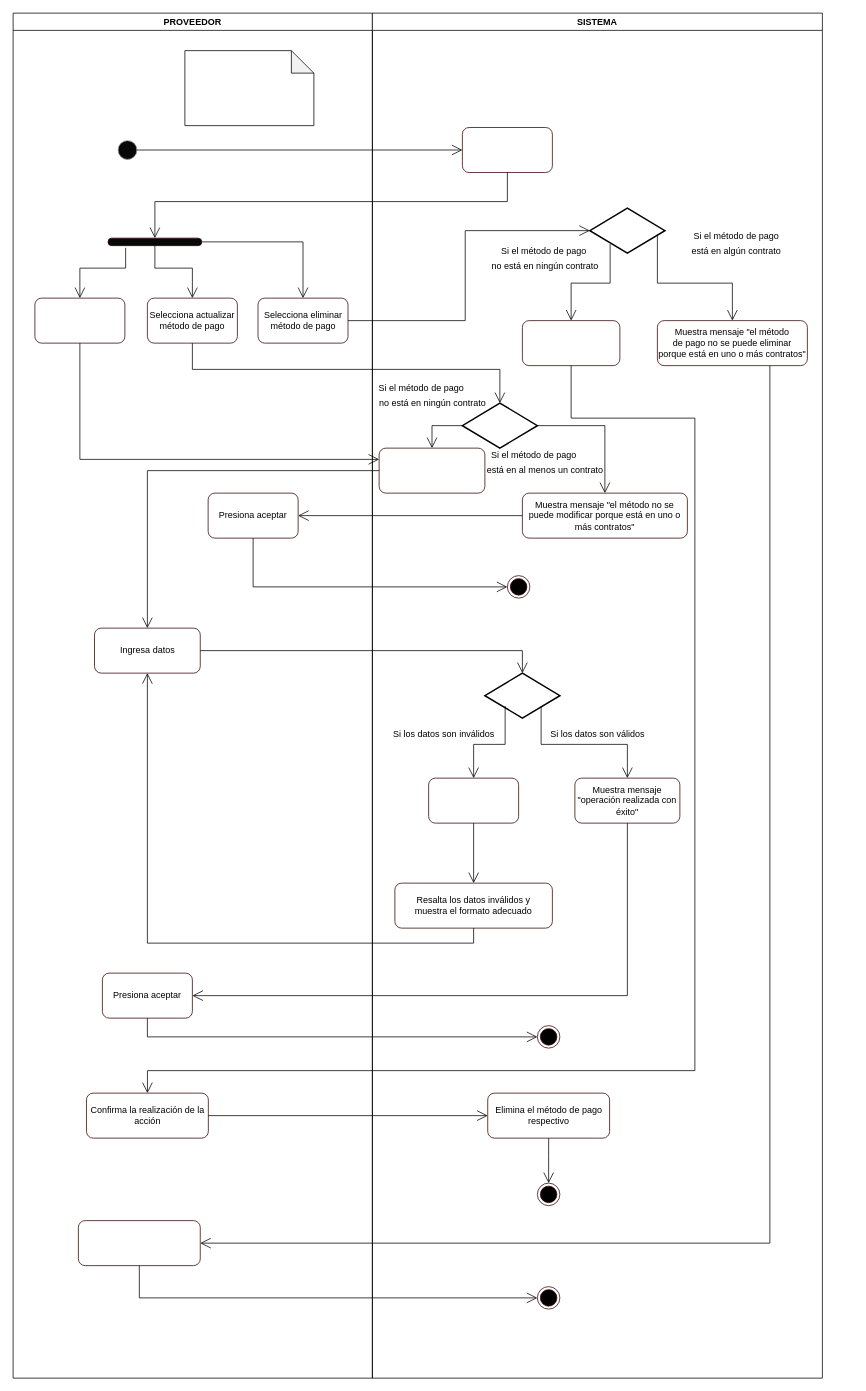
Some shapes in this 866 by 1391 pixel diagram are drawn without their labels. Each missing label, with the box of its shape:
Confirma la lectura del mensaje: (78, 1220, 200, 1266)
Este flujo se inicia cuando el proveedor selecciona métodos de pago: (184, 50, 314, 126)
Muestra interfaz "formulario datos de método de pago": (378, 447, 485, 493)
Muestra interfaz "métodos de pago": (462, 127, 552, 172)
Muestra mensaje "datos inválidos": (428, 777, 519, 823)
Muestra mensaje pidiendo la confirmación: (522, 320, 620, 366)
Selecciona crear método de pago: (34, 297, 125, 343)
